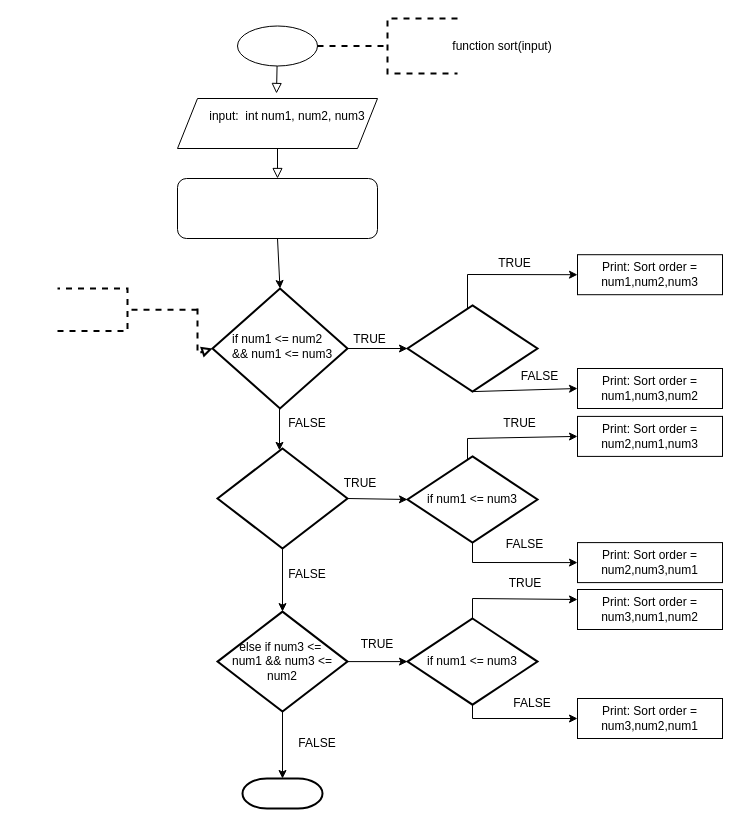
Image size: 740x826. Some labels were removed from this diagram. Here are the shapes that lost their labels. From the top down, the centre of each, then its label:
At [277,45]: "Start".
At [277,208]: "initialize: num1, num2, num3 from user input.".
At [127,309]: "nested if condition".
At [472,348]: "if num2 <= num3".
At [282,498]: "else if num2 <= num1 && num2 <= num3".
At [282,793]: "Stop".
